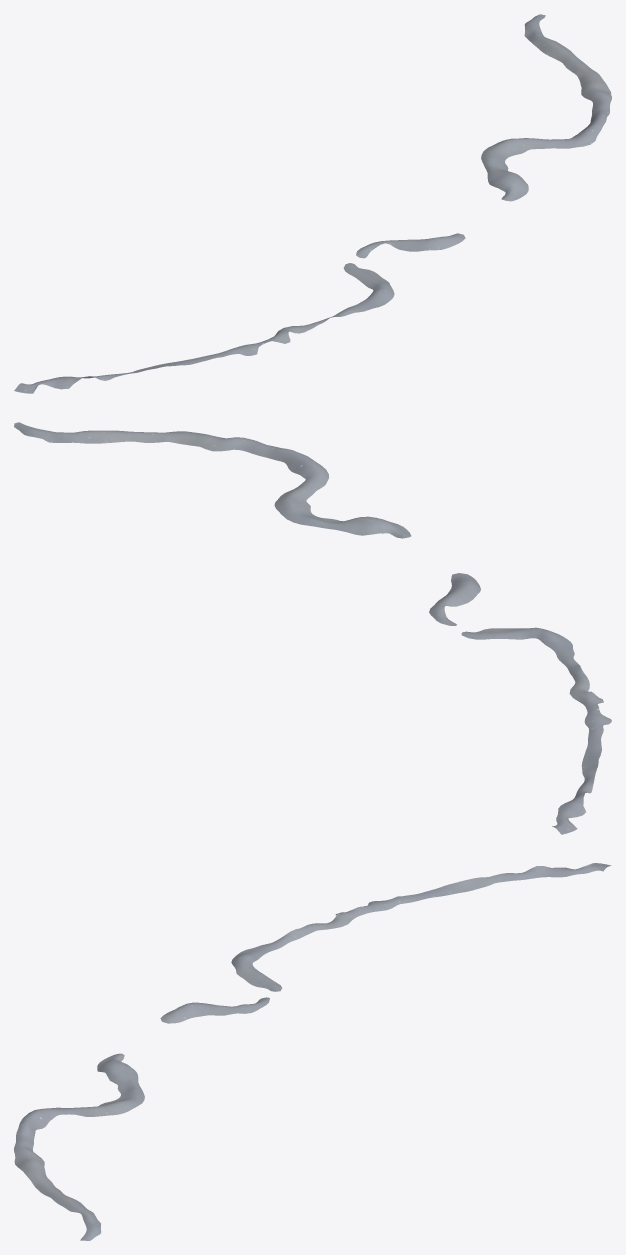
File: pref_sm_beach_winter_toproad_snow01_lv3.fbx
The picture shows the model from 3 angles, top to bottom: view 1: azimuth 90°, elevation 25°; view 2: azimuth 150°, elevation 25°; view 3: azimuth 270°, elevation 25°; orthographic projection. The views are drawn at different scales.
Parts seen in each view (by area): view 1: pref_sm_beach_winter_toproad_snow01_lv3; view 2: pref_sm_beach_winter_toproad_snow01_lv3; view 3: pref_sm_beach_winter_toproad_snow01_lv3.
Part boxes in pixels (left/top/right/bottom): pref_sm_beach_winter_toproad_snow01_lv3: left=14, top=14, right=611, bottom=393; pref_sm_beach_winter_toproad_snow01_lv3: left=14, top=422, right=611, bottom=834; pref_sm_beach_winter_toproad_snow01_lv3: left=14, top=863, right=611, bottom=1240.
Size of the model in its own units: 45.32 by 0.5493 by 30.25.
